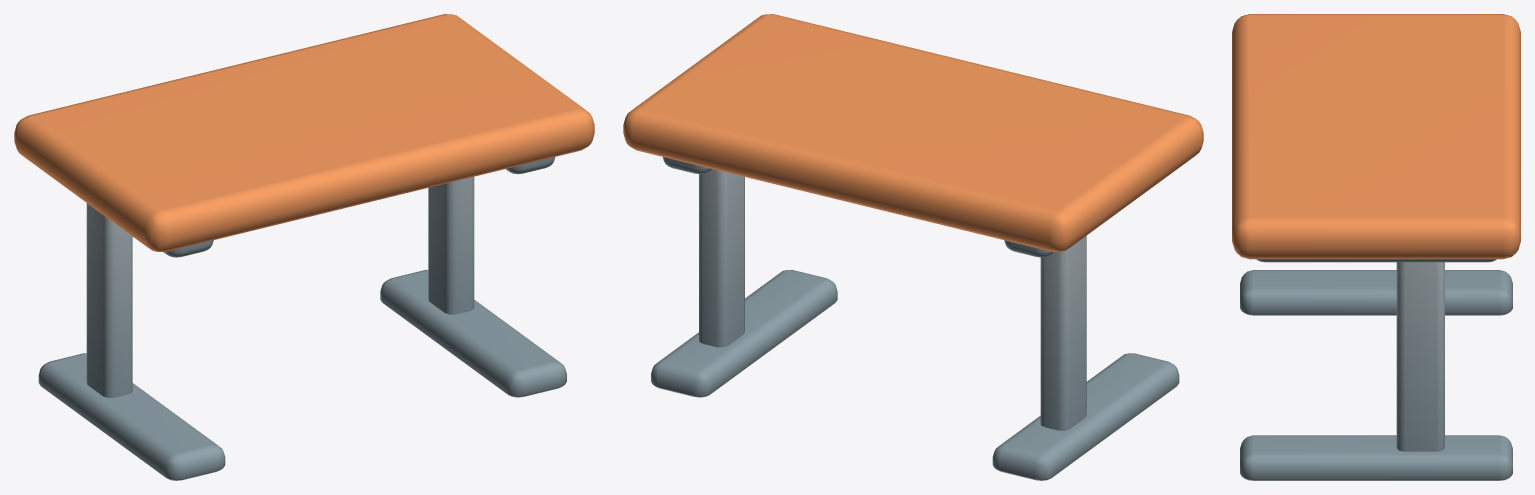
The model's file is Work_Table_06.glb.
3 views of the same model, side by side, from view 1: azimuth 30°, elevation 25°; view 2: azimuth 150°, elevation 25°; view 3: azimuth 270°, elevation 25° (orthographic).
Parts seen in each view (by area): view 1: Work_Table_06; view 2: Work_Table_06; view 3: Work_Table_06.
Boxes of the visible parts, box(x1,y1,x2,y2) form: Work_Table_06: box(14, 14, 594, 480); Work_Table_06: box(623, 14, 1203, 480); Work_Table_06: box(1232, 14, 1520, 480).
Size of the model in its own units: 1.31 by 0.7601 by 0.7371.
1 material, 1 textured.
